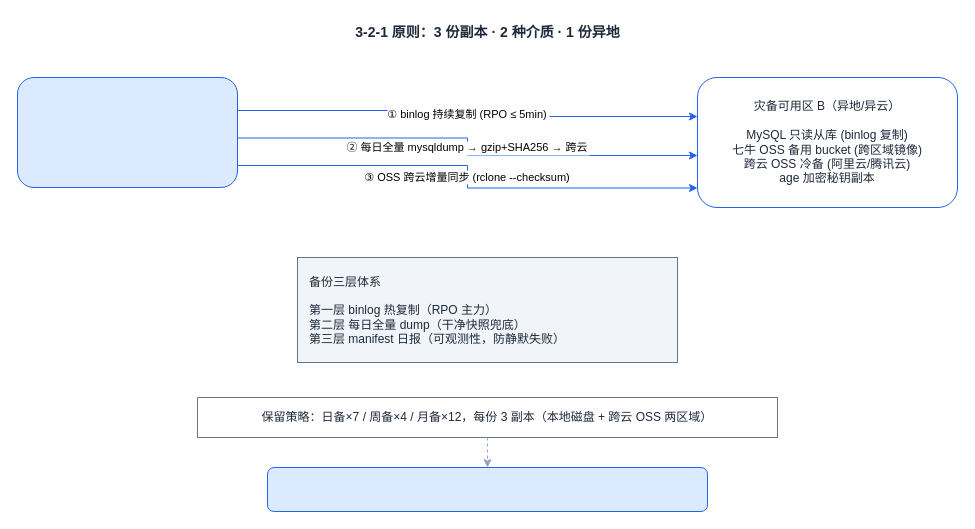
Image size: 975x529. Some labels were removed from this diagram. The shapes that lost their labels are listed below. From the top down, each one's centre as x and y in pixels, then its label:
At (127,132): "生产可用区 A MySQL 主库 七牛 OSS 主 bucket .env.prod 秘钥".
At (487,489): "每月恢复演练（5 步 SOP）→ 失败即阻断发布".
